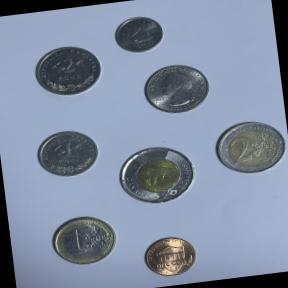coin: (112, 139, 205, 210), (211, 114, 288, 180), (138, 58, 217, 119), (30, 41, 107, 101), (48, 210, 122, 270), (138, 230, 204, 282), (110, 12, 170, 56)
